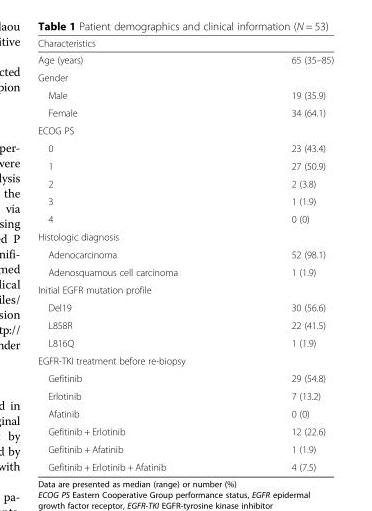table: (37, 37, 333, 472)
table column: (37, 37, 233, 472), (233, 37, 333, 472)
table column header: (37, 37, 333, 51)
table projected row header: (37, 121, 333, 139), (37, 227, 333, 245), (37, 280, 333, 298), (37, 351, 333, 369), (37, 68, 333, 85)
table row: (37, 85, 333, 103), (37, 103, 333, 121), (37, 121, 333, 139), (37, 156, 333, 174), (37, 174, 333, 192), (37, 209, 333, 227), (37, 227, 333, 245), (37, 262, 333, 280), (37, 280, 333, 298), (37, 298, 333, 316), (37, 333, 333, 351), (37, 351, 333, 369), (37, 386, 333, 404), (37, 404, 333, 422), (37, 439, 333, 457), (37, 51, 333, 68), (37, 68, 333, 85), (37, 139, 333, 156), (37, 192, 333, 209), (37, 245, 333, 262), (37, 316, 333, 333), (37, 369, 333, 386), (37, 422, 333, 439), (37, 457, 333, 472), (37, 37, 333, 51)
